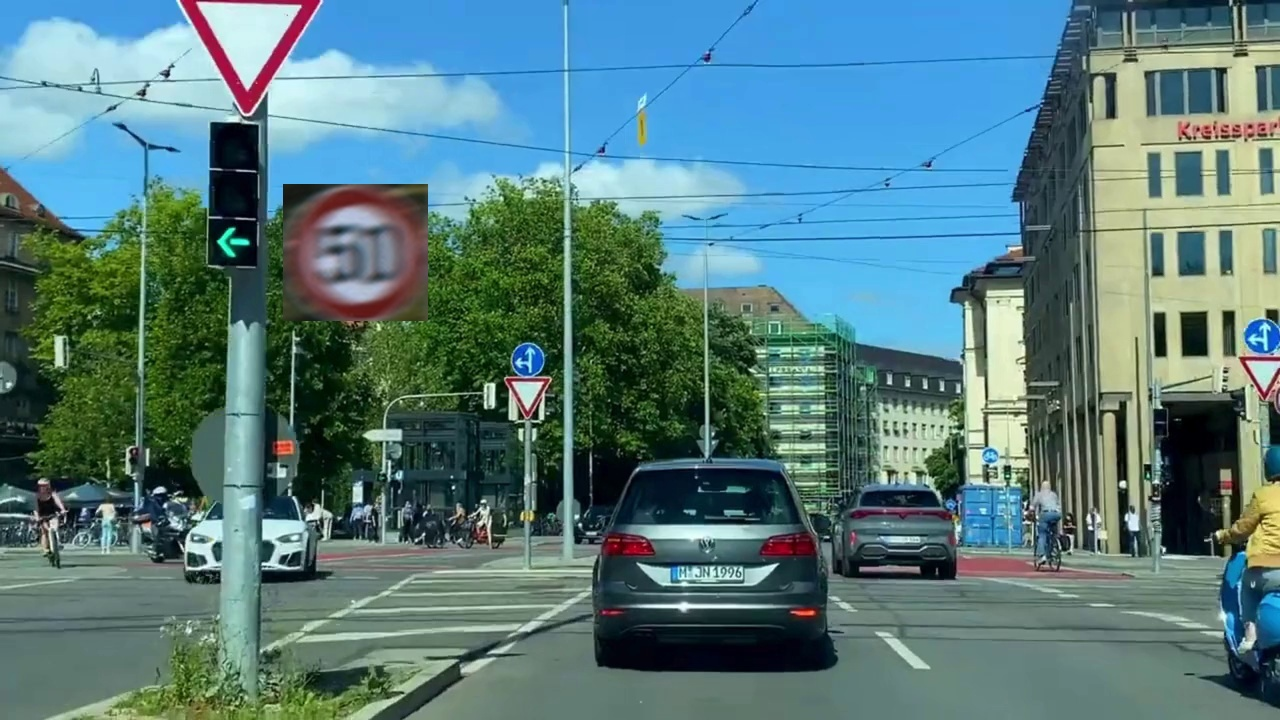Speed 50: (283, 184, 428, 321)
